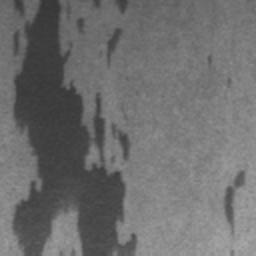Red iron sheet: (10, 0, 140, 256), (220, 170, 244, 236), (105, 26, 123, 70), (115, 0, 131, 15), (204, 52, 214, 68), (92, 0, 101, 9), (225, 78, 234, 87), (229, 247, 236, 255)
